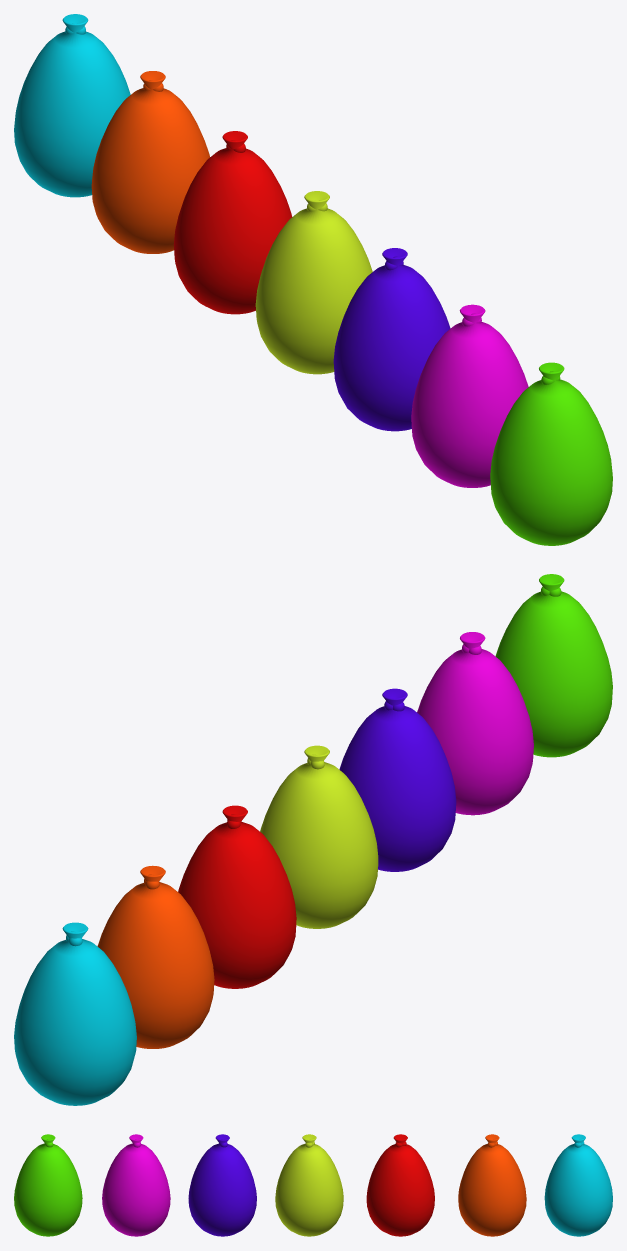
Rendered from Balloons.fbx.
The picture shows the model from 3 angles, top to bottom: view 1: azimuth 30°, elevation 25°; view 2: azimuth 150°, elevation 25°; view 3: azimuth 270°, elevation 25°; orthographic projection. The views are drawn at different scales.
Visible parts, largest first — view 1: Sphere.006, Sphere.005, Sphere.002, Sphere.003, Sphere, Sphere.004, Sphere.001; view 2: Sphere.004, Sphere.002, Sphere, Sphere.006, Sphere.001, Sphere.003, Sphere.005; view 3: Sphere.005, Sphere.002, Sphere, Sphere.006, Sphere.003, Sphere.001, Sphere.004.
Part boxes in pixels (x1,y1,x2,y2): Sphere.006: [490, 362, 612, 545]; Sphere.005: [91, 71, 209, 253]; Sphere.002: [173, 131, 291, 314]; Sphere.003: [411, 304, 528, 487]; Sphere: [255, 191, 372, 374]; Sphere.004: [14, 14, 130, 197]; Sphere.001: [333, 248, 450, 431]; Sphere.004: [14, 922, 136, 1105]; Sphere.002: [178, 805, 296, 988]; Sphere: [260, 745, 378, 928]; Sphere.006: [495, 574, 612, 757]; Sphere.001: [339, 688, 456, 871]; Sphere.003: [417, 632, 533, 815]; Sphere.005: [97, 865, 214, 1048]; Sphere.005: [458, 1134, 526, 1236]; Sphere.002: [366, 1134, 434, 1236]; Sphere: [275, 1134, 343, 1236]; Sphere.006: [14, 1134, 82, 1236]; Sphere.003: [102, 1134, 170, 1236]; Sphere.001: [188, 1134, 256, 1236]; Sphere.004: [544, 1134, 612, 1236].
Bounding box in the file's own units: 224 × 348 × 1960.
